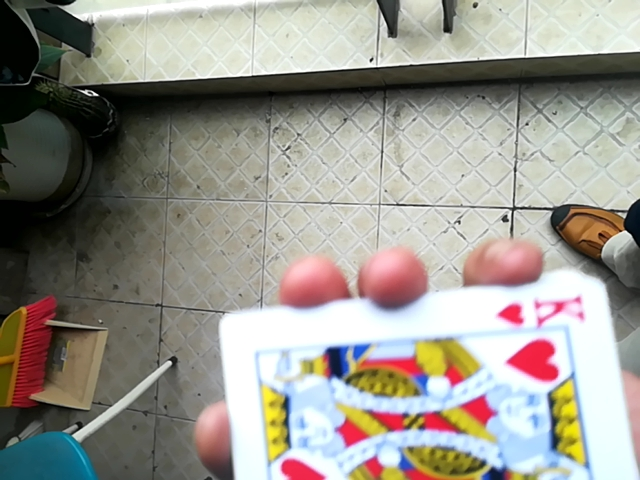hx k: (206, 284, 638, 480)
